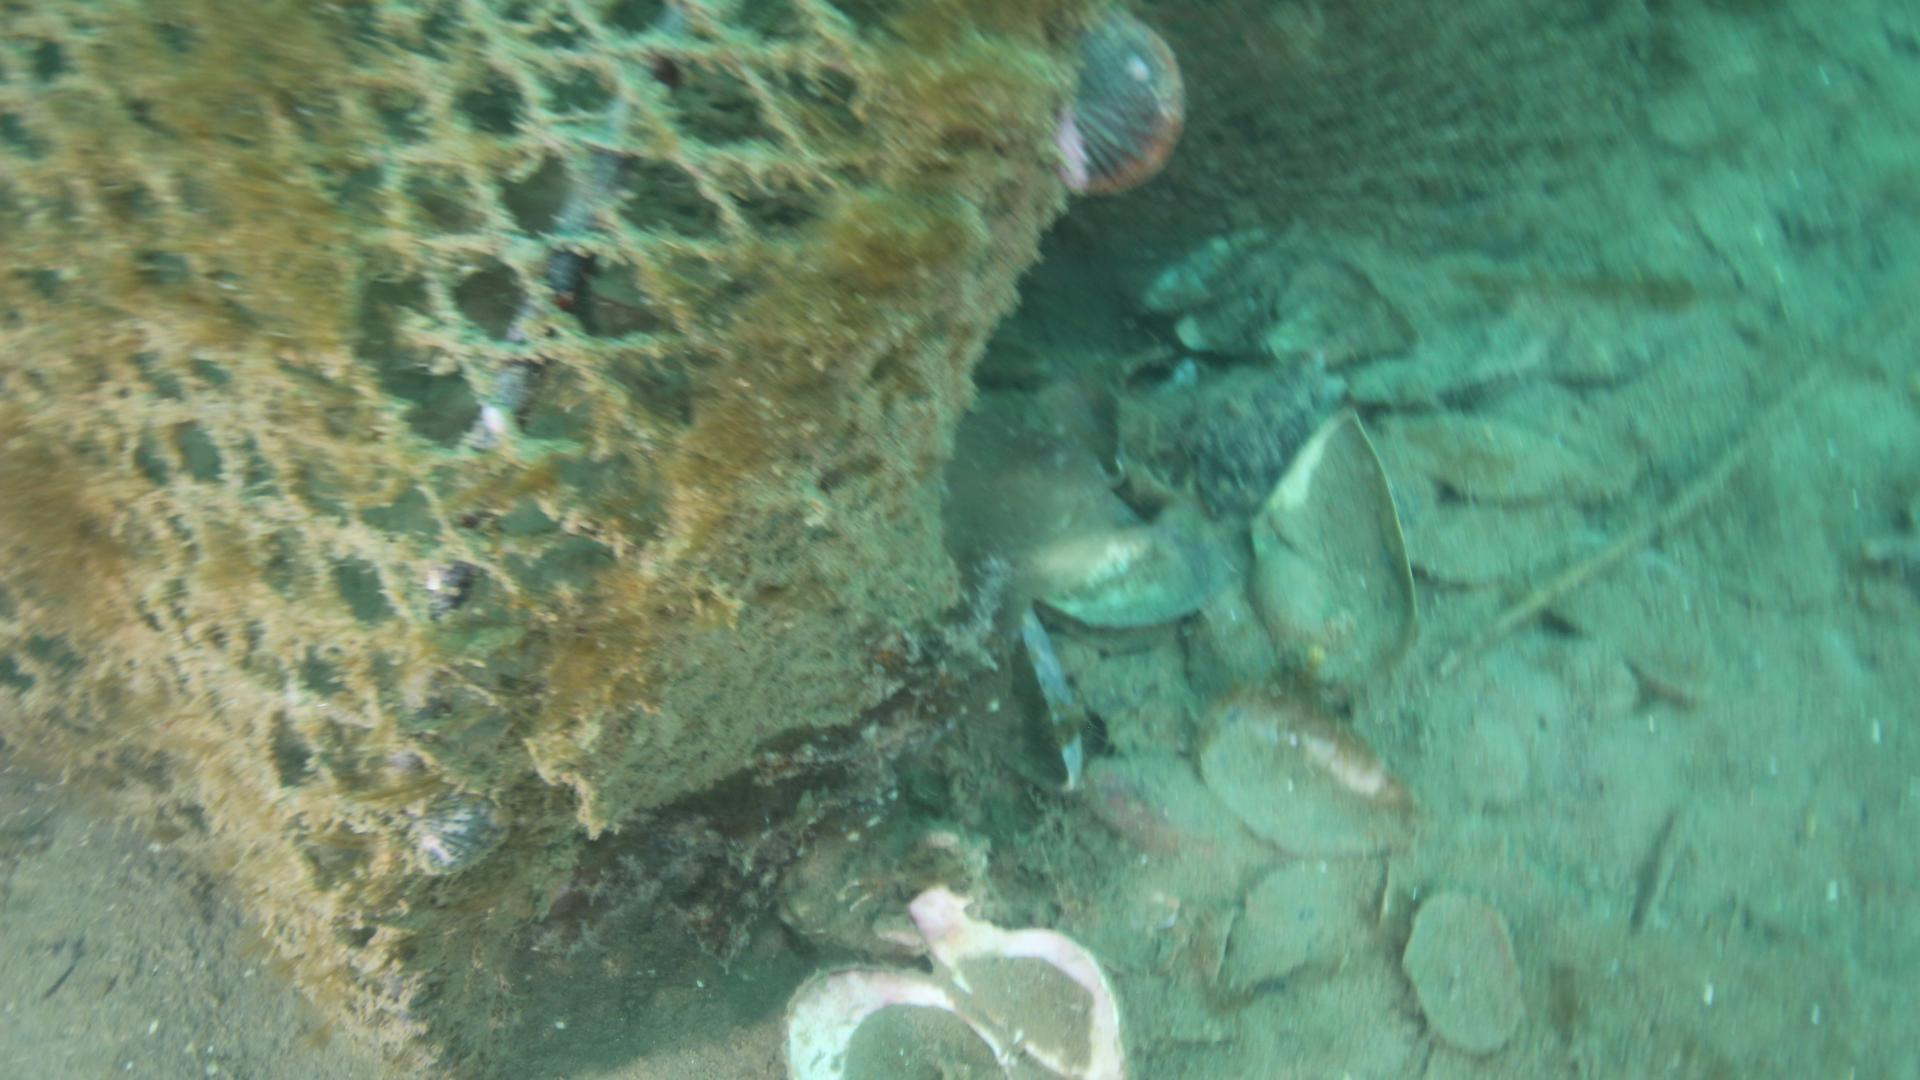fish net: (0, 0, 862, 808)
